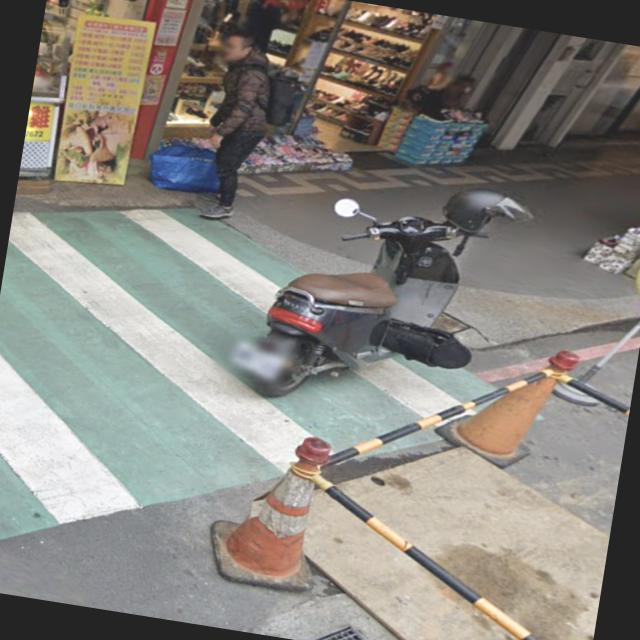cone: (205, 421, 347, 603), (446, 322, 584, 486)
